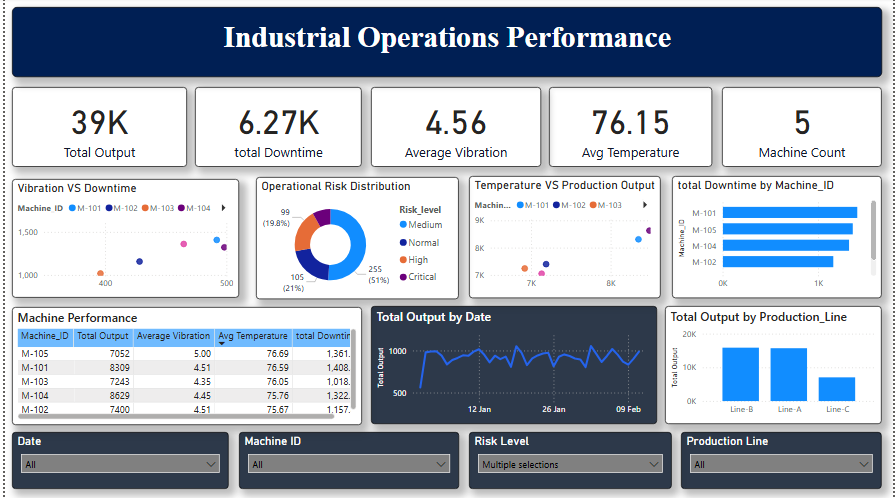

The page's visual inventory and layout, read from the dashboard file:
{"tool":"powerbi","page":{"name":"Page 1","canvas":[1280,720],"ordinal":0},"visuals":[{"type":"card","fields":{"Values":["industrial_sensor_data.Total Output"]},"box":[10.1,128.2,252,115.2],"z":0},{"type":"card","fields":{"Values":["industrial_sensor_data.Avg Temperature"]},"box":[783.4,128.2,234.7,115.2],"z":1},{"type":"card","fields":{"Values":["industrial_sensor_data.Machine Count"]},"box":[1032.5,128.2,230.4,115.2],"z":2},{"type":"card","fields":{"Values":["industrial_sensor_data.total Downtime"]},"box":[273.6,128.2,240.5,115.2],"z":3},{"type":"card","fields":{"Values":["industrial_sensor_data.Average Vibration"]},"box":[527,128.2,244.8,115.2],"z":4},{"type":"lineChart","fields":{"Y":["industrial_sensor_data.Total Output"],"Category":["Datetable.Date"]},"box":[527,443.5,411.8,169.9],"z":5},{"type":"clusteredBarChart","fields":{"Category":["industrial_sensor_data.Machine_ID"],"Y":["industrial_sensor_data.total Downtime"]},"box":[960.5,256.3,302.4,175.7],"z":6},{"type":"clusteredColumnChart","fields":{"Category":["industrial_sensor_data.Production_Line"],"Y":["industrial_sensor_data.Total Output"]},"box":[950.4,443.5,312.5,169.9],"z":7},{"type":"scatterChart","title":"Vibration VS Downtime","fields":{"X":["Sum(industrial_sensor_data.Vibration_mm_s)"],"Y":["Sum(industrial_sensor_data.Downtime_Minutes)"],"Series":["industrial_sensor_data.Machine_ID"]},"box":[10.1,260.6,326.9,171.4],"z":8},{"type":"scatterChart","title":"Temperature VS Production Output","fields":{"X":["Sum(industrial_sensor_data.Temperature_C)"],"Y":["Sum(industrial_sensor_data.Output_Units)"],"Series":["industrial_sensor_data.Machine_ID"]},"box":[668.2,256.3,276.5,175.7],"z":9},{"type":"donutChart","title":"Operational Risk Distribution","fields":{"Category":["industrial_sensor_data.Risk_level"],"Y":["CountNonNull(industrial_sensor_data.Risk_level)"]},"box":[361.4,257.8,292.3,175.7],"z":10},{"type":"slicer","title":"Date","fields":{"Values":["Datetable.Date.Variation.Date Hierarchy.Year","Datetable.Date.Variation.Date Hierarchy.Quarter","Datetable.Date.Variation.Date Hierarchy.Month","Datetable.Date.Variation.Date Hierarchy.Day"]},"box":[10.1,625,312.5,82.1],"z":11},{"type":"slicer","title":"Machine ID","fields":{"Values":["industrial_sensor_data.Machine_ID"]},"box":[337,625,316.8,82.1],"z":12},{"type":"slicer","title":"Production Line","fields":{"Values":["industrial_sensor_data.Production_Line"]},"box":[973.4,625,289.4,82.1],"z":13},{"type":"slicer","title":"Risk Level","fields":{"Values":["industrial_sensor_data.Risk_level"]},"box":[668.2,625,292.3,82.1],"z":14},{"type":"pivotTable","title":"Machine Performance","fields":{"Rows":["industrial_sensor_data.Machine_ID"],"Values":["industrial_sensor_data.Total Output","industrial_sensor_data.Average Vibration","industrial_sensor_data.Avg Temperature","industrial_sensor_data.total Downtime"]},"box":[10.1,445,504,169.9],"z":15},{"type":"textbox","box":[10.1,13,1252.8,100.8],"z":16}]}

Visuals, with their boxes in screenshot pixels (x1, y1, x2, y2), scaled from the page's 1280x720 canvas onto the 895x498 screenshot:
card - industrial_sensor_data.Total Output: [x1=7, y1=89, x2=183, y2=168]
card - industrial_sensor_data.Avg Temperature: [x1=548, y1=89, x2=712, y2=168]
card - industrial_sensor_data.Machine Count: [x1=722, y1=89, x2=883, y2=168]
card - industrial_sensor_data.total Downtime: [x1=191, y1=89, x2=359, y2=168]
card - industrial_sensor_data.Average Vibration: [x1=368, y1=89, x2=540, y2=168]
lineChart - industrial_sensor_data.Total Output x Datetable.Date: [x1=368, y1=307, x2=656, y2=424]
clusteredBarChart - industrial_sensor_data.Machine_ID x industrial_sensor_data.total Downtime: [x1=672, y1=177, x2=883, y2=299]
clusteredColumnChart - industrial_sensor_data.Production_Line x industrial_sensor_data.Total Output: [x1=665, y1=307, x2=883, y2=424]
"Vibration VS Downtime" scatterChart: [x1=7, y1=180, x2=236, y2=299]
"Temperature VS Production Output" scatterChart: [x1=467, y1=177, x2=661, y2=299]
"Operational Risk Distribution" donutChart: [x1=253, y1=178, x2=457, y2=300]
"Date" slicer: [x1=7, y1=432, x2=226, y2=489]
"Machine ID" slicer: [x1=236, y1=432, x2=457, y2=489]
"Production Line" slicer: [x1=681, y1=432, x2=883, y2=489]
"Risk Level" slicer: [x1=467, y1=432, x2=672, y2=489]
"Machine Performance" pivotTable: [x1=7, y1=308, x2=359, y2=425]
textbox: [x1=7, y1=9, x2=883, y2=79]
